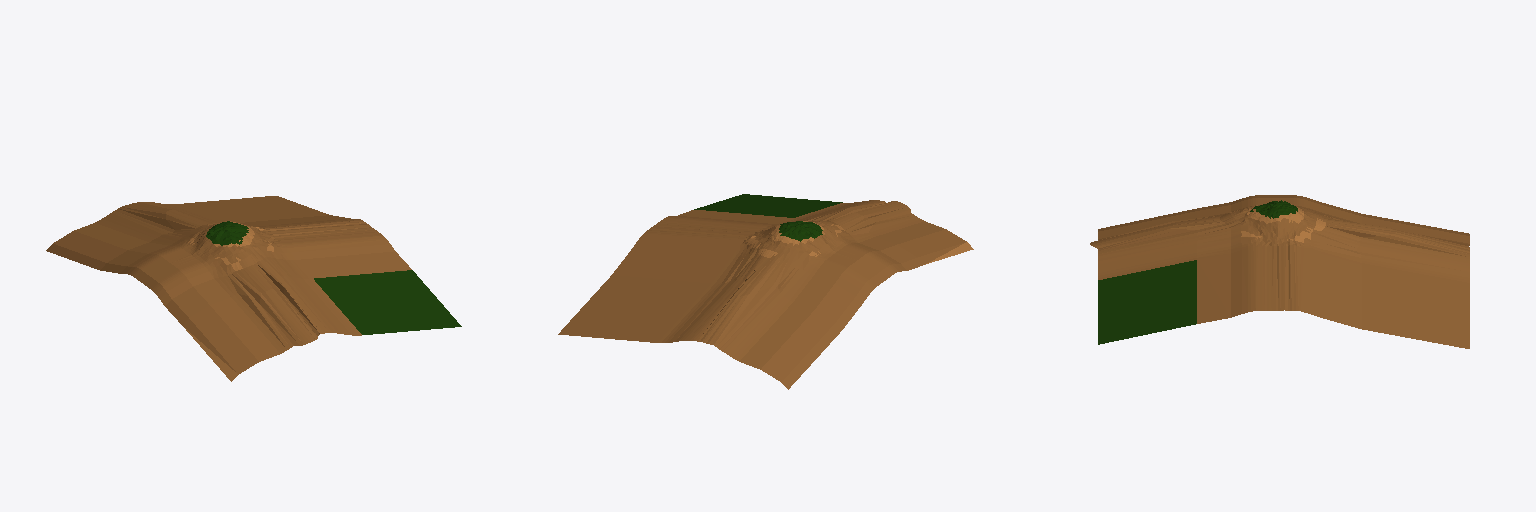
The model's file is Ilha.obj.
3 views of the same model, side by side, from view 1: azimuth 30°, elevation 25°; view 2: azimuth 150°, elevation 25°; view 3: azimuth 270°, elevation 25° (orthographic).
Parts seen in each view (by area): view 1: Plane.002_Plane.003; view 2: Plane.002_Plane.003; view 3: Plane.002_Plane.003.
Boxes of the visible parts, <box> form: Plane.002_Plane.003: <box>46,196,461,381</box>; Plane.002_Plane.003: <box>558,194,973,389</box>; Plane.002_Plane.003: <box>1090,195,1469,348</box>.
Size of the model in its own units: 12.19 by 3.76 by 17.39.